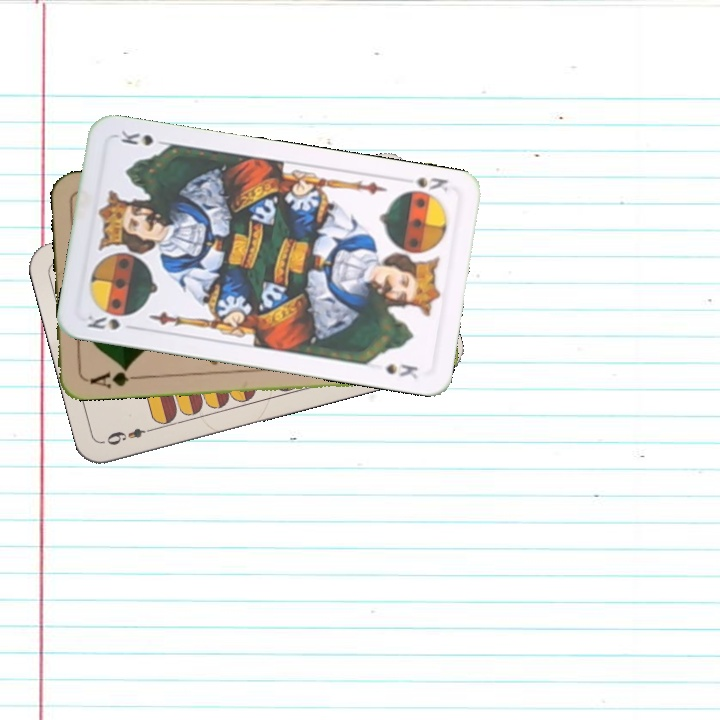E9: (102, 423, 158, 448)
GA: (83, 363, 142, 391)
SK: (83, 311, 140, 333), (412, 173, 451, 195)
